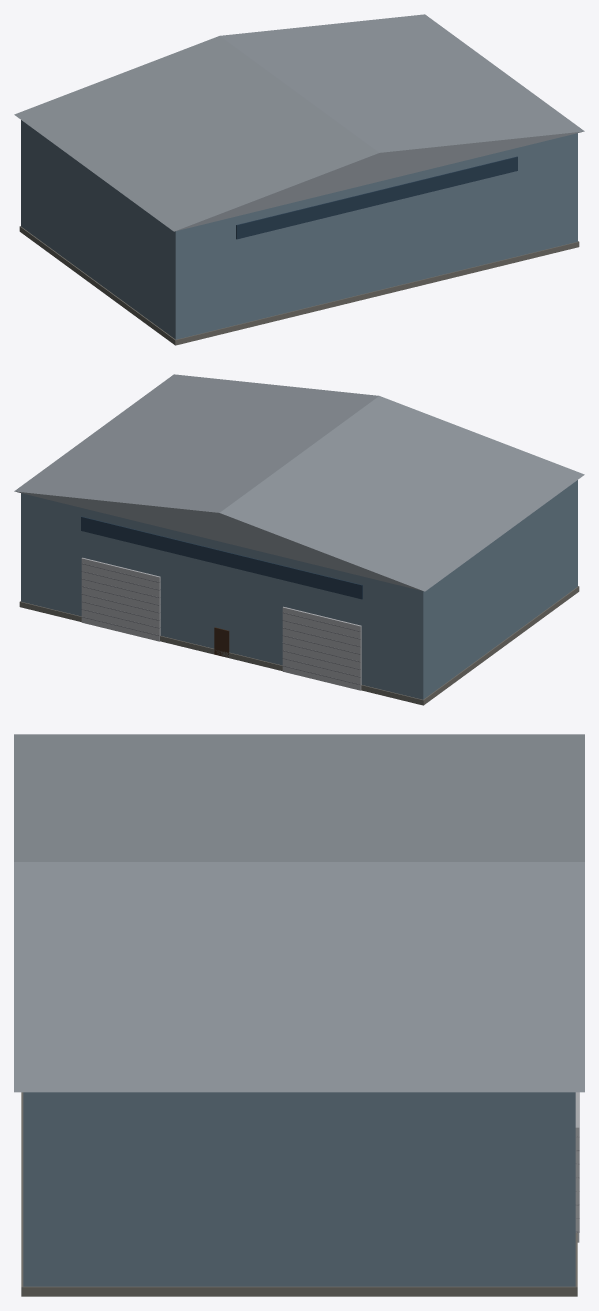
Rendered from bld_warehouse_a.glb.
The picture shows the model from 3 angles, top to bottom: view 1: azimuth 30°, elevation 25°; view 2: azimuth 150°, elevation 25°; view 3: azimuth 270°, elevation 25°; orthographic projection. The views are drawn at different scales.
Visible parts, largest first — view 1: bld_warehouse_a__mesh; view 2: bld_warehouse_a__mesh; view 3: bld_warehouse_a__mesh.
Boxes of the visible parts, x1,y1,x2,y2 form: bld_warehouse_a__mesh: (14,14,584,345); bld_warehouse_a__mesh: (14,374,584,705); bld_warehouse_a__mesh: (14,734,584,1296).
Size of the model in its own units: 36.8 by 12.4 by 24.8.
